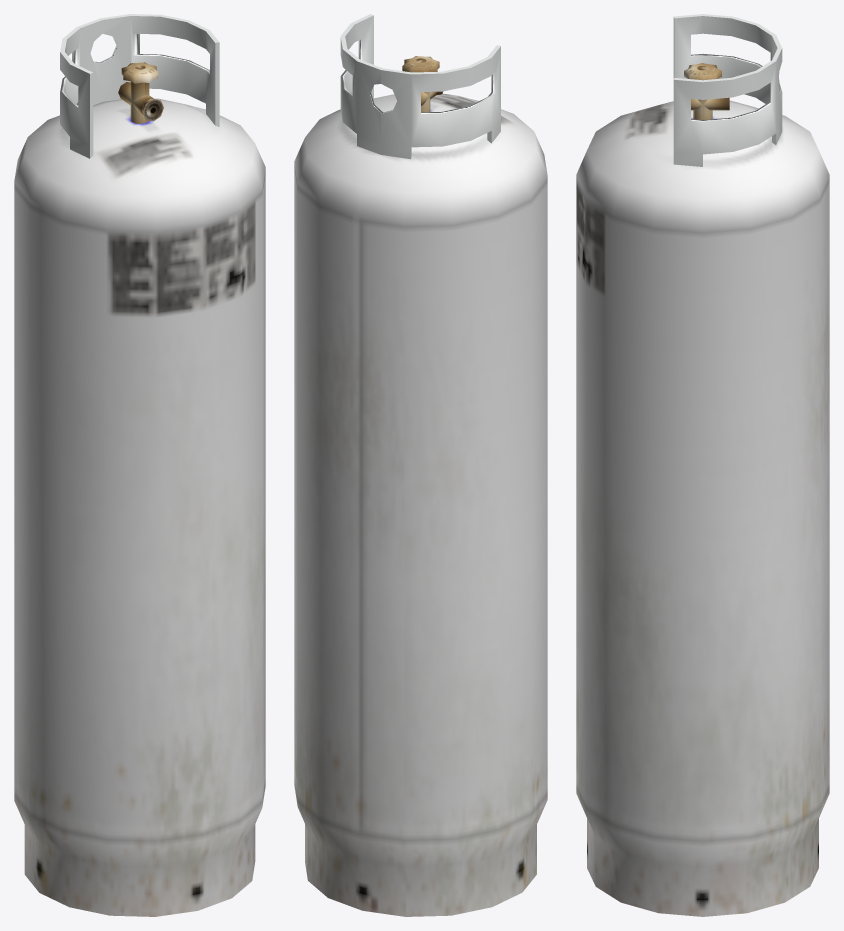
File: 100lb_worthingtonpro.fbx
3 views of the same model, side by side, from view 1: azimuth 30°, elevation 25°; view 2: azimuth 150°, elevation 25°; view 3: azimuth 270°, elevation 25° (orthographic).
Parts seen in each view (by area): view 1: Worthington; view 2: Worthington; view 3: Worthington.
Boxes of the visible parts, box(x1,y1,x2,y2) form: Worthington: box(14, 14, 265, 916); Worthington: box(294, 14, 547, 916); Worthington: box(576, 14, 829, 916).
Bounding box in the file's own units: 0.2602 × 0.9302 × 0.2602.
